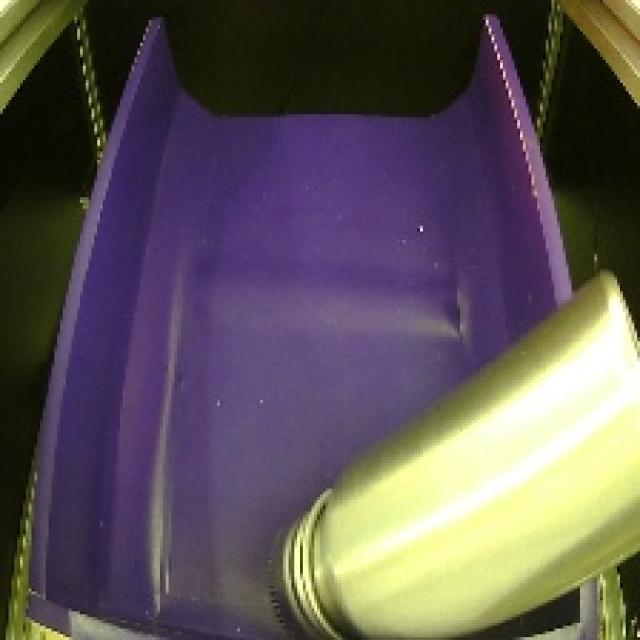metal: (248, 257, 640, 640)
